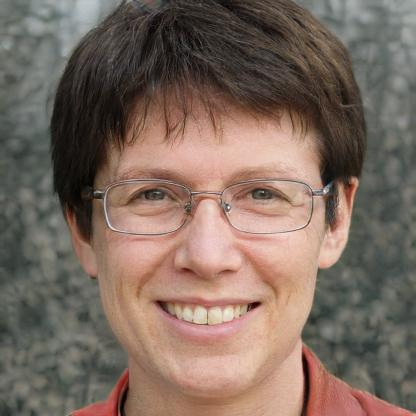glasses: (92, 172, 329, 238)
